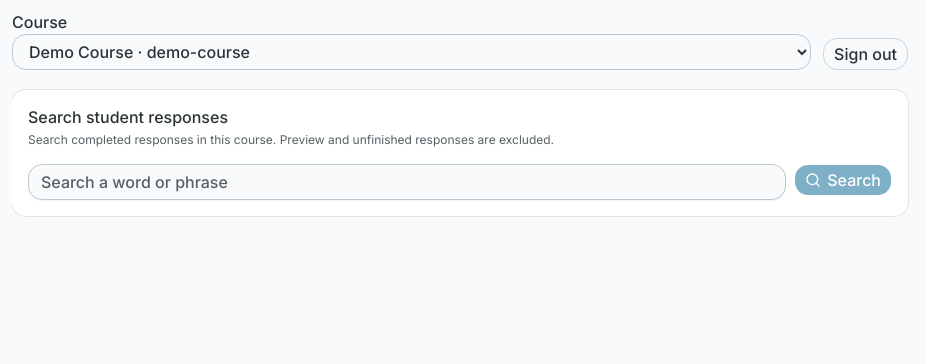
Test: selects a permitted course and shows response excerpts for an existing instructor session
The width and height of the screenshot is (926, 364).
Check: the dropdown labelled "Course" shows "Demo Course · demo-course", box [12,34,811,70]
In the search field named "Search student responses": (407, 182) [28,164,786,200], type "capstone"
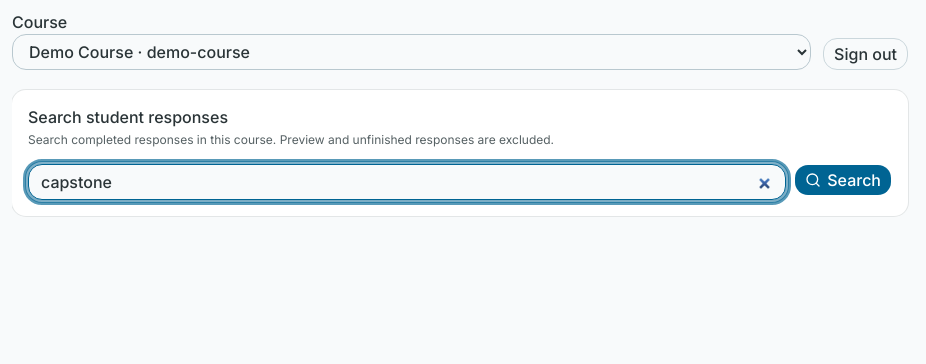
Click the button "Search": click(843, 180) [794,164,892,196]
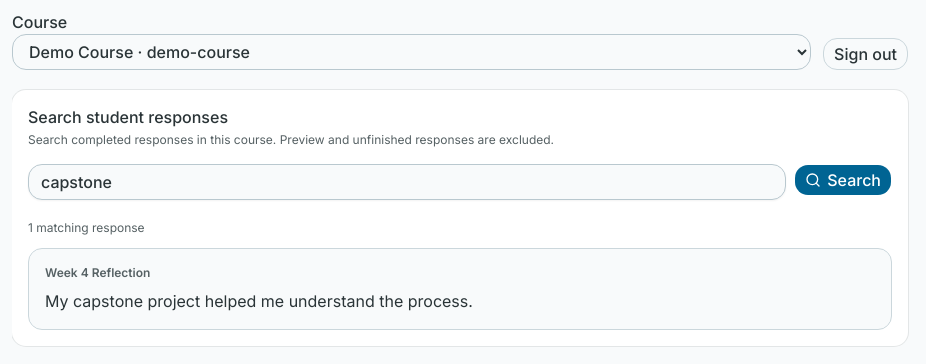
Check: the text "My capstone project helped me understand the process." is shown, box [45,291,473,311]
